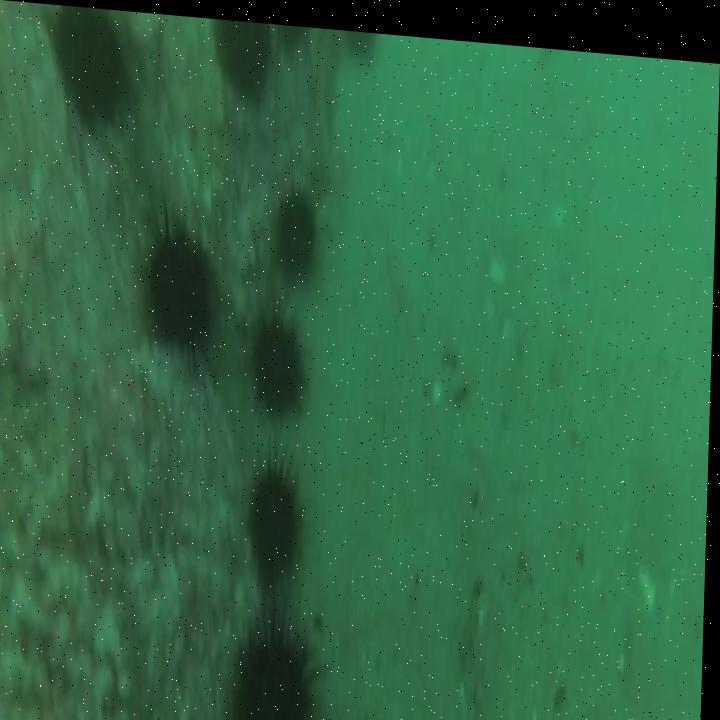echinus: (143, 201, 219, 371), (228, 596, 328, 720), (51, 4, 131, 135), (246, 447, 310, 595), (250, 304, 316, 421), (202, 14, 275, 106), (268, 177, 322, 286), (268, 19, 318, 63), (338, 24, 385, 63)
